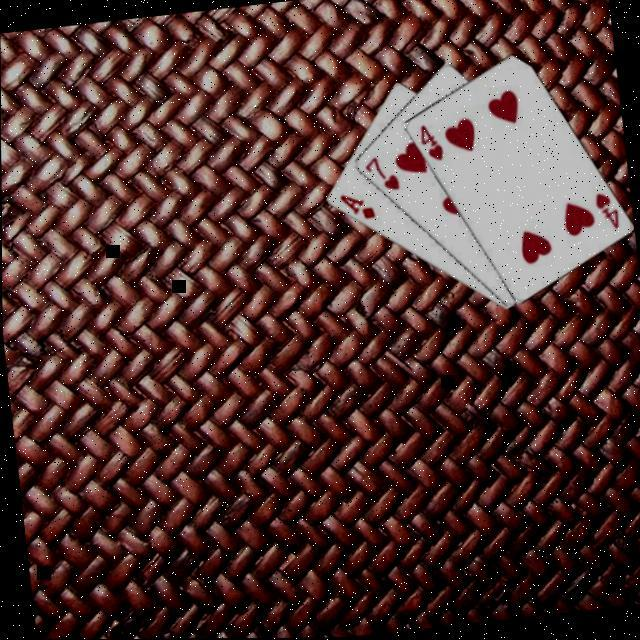4H: (589, 189, 621, 236), (415, 121, 445, 165)
7H: (358, 152, 400, 197)
AD: (334, 189, 377, 225)
